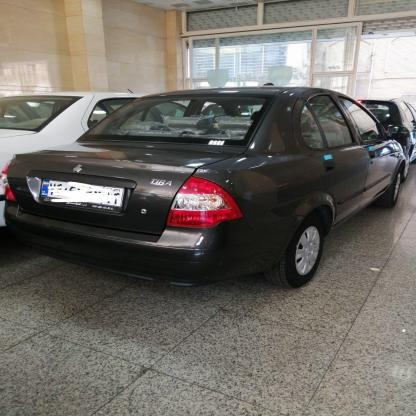Car: (2, 90, 406, 277), (0, 90, 134, 185)
